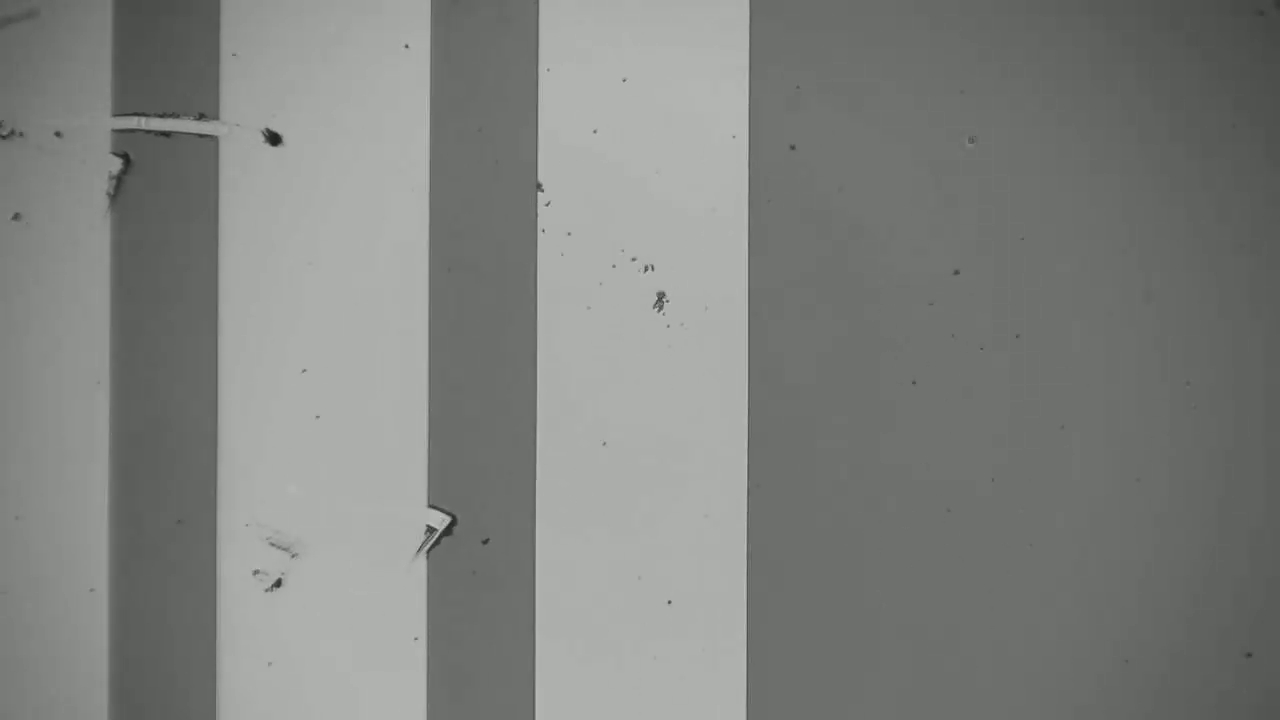Short_circuit: (92, 92, 241, 157)
